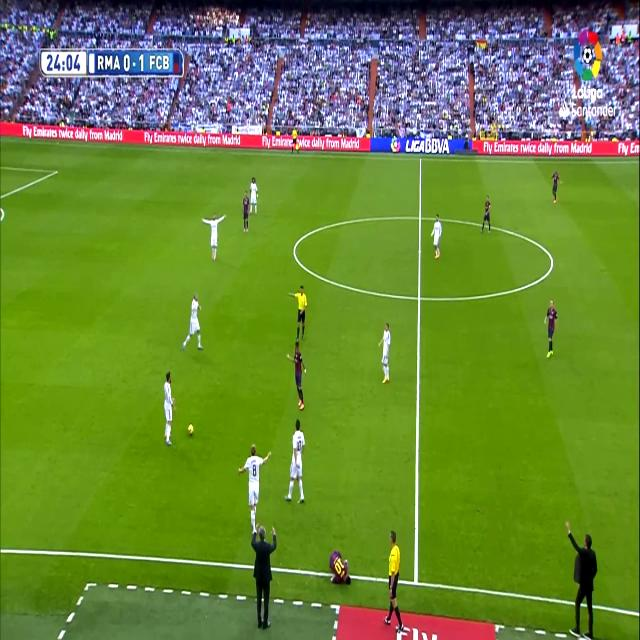halfcircle_bottom: (413, 284, 425, 310)
halfcircle_top: (415, 206, 425, 227)
midline_bottom_intersection: (408, 566, 423, 590)
midline_top_intersection: (417, 152, 424, 165)
